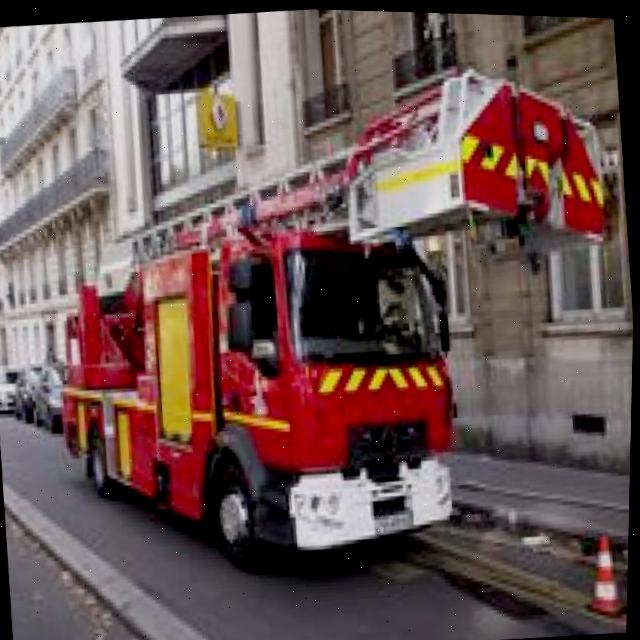emergency: (30, 38, 639, 593)
